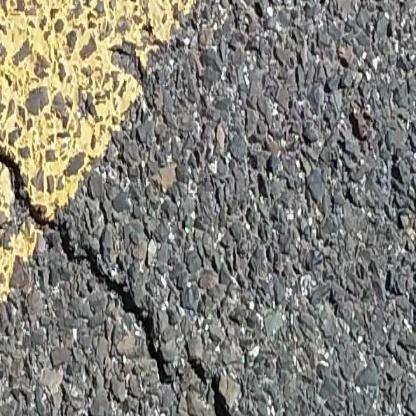Cracks: (0, 99, 253, 416)
